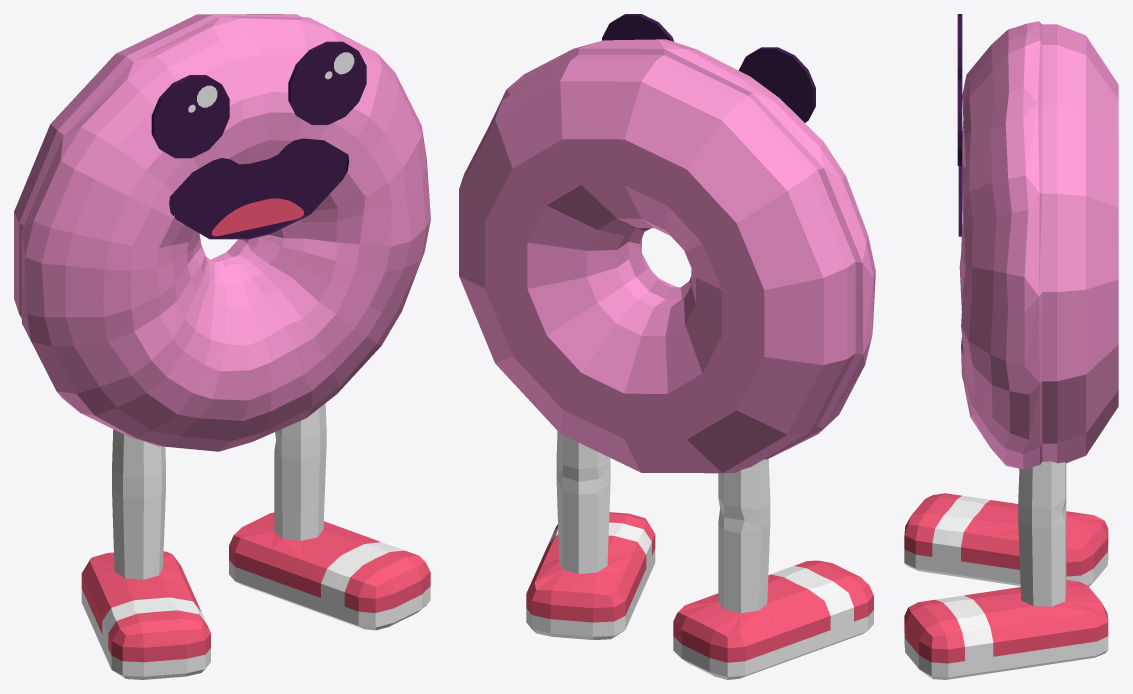
The model's file is ToyObject_174.fbx.
3 renders of one model, left to right at view 1: azimuth 30°, elevation 25°; view 2: azimuth 150°, elevation 25°; view 3: azimuth 270°, elevation 25°, orthographic. The views are drawn at different scales.
Visible parts, largest first — view 1: Object.027; view 2: Object.027; view 3: Object.027.
Part boxes in pixels (box(x1,y1,x2,y2)): Object.027: box(14, 14, 430, 679); Object.027: box(459, 14, 875, 679); Object.027: box(904, 14, 1118, 679).
Size of the model in its own units: 0.1215 by 0.1708 by 0.058.
